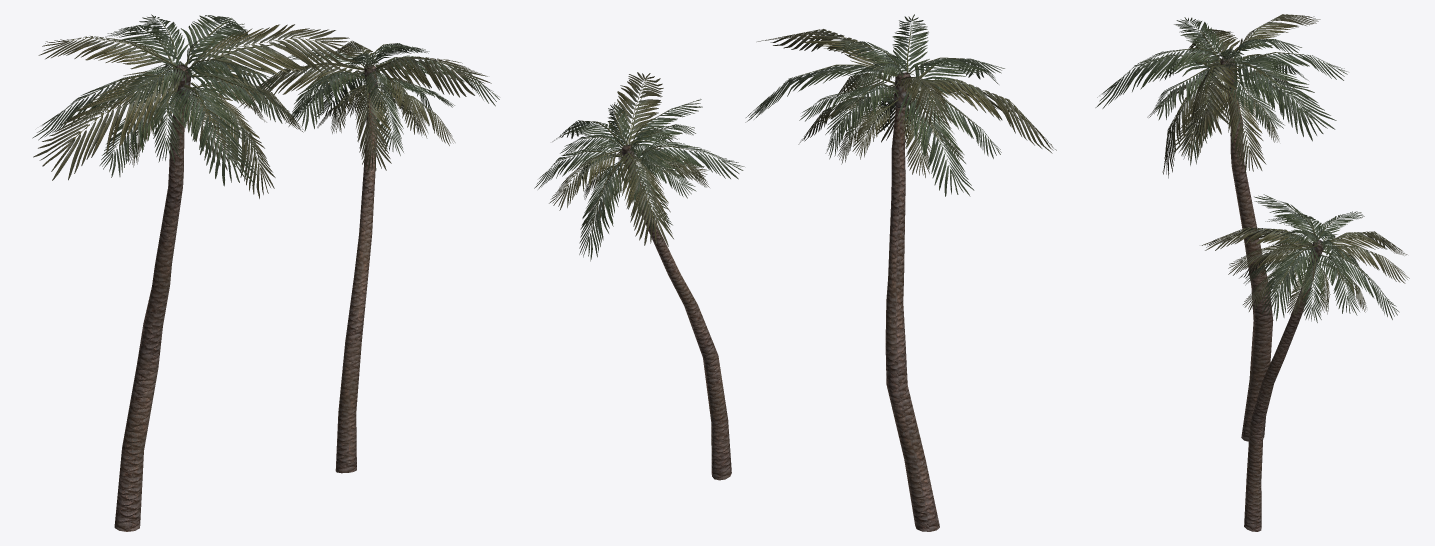
File: palm-trees.glb
The picture shows the model from 3 angles, left to right: view 1: azimuth 30°, elevation 25°; view 2: azimuth 150°, elevation 25°; view 3: azimuth 270°, elevation 25°; orthographic projection. The views are drawn at different scales.
Parts seen in each view (by area): view 1: palm_a, palm_b; view 2: palm_a, palm_b; view 3: palm_a, palm_b.
Boxes of the visible parts, <box> form: palm_a: <box>32,14,357,531</box>; palm_b: <box>238,40,499,473</box>; palm_a: <box>745,14,1056,531</box>; palm_b: <box>534,72,744,480</box>; palm_a: <box>1095,14,1347,441</box>; palm_b: <box>1201,194,1409,531</box>.
Size of the model in its own units: 10.56 by 9.51 by 6.76.
1 material, 1 textured.
